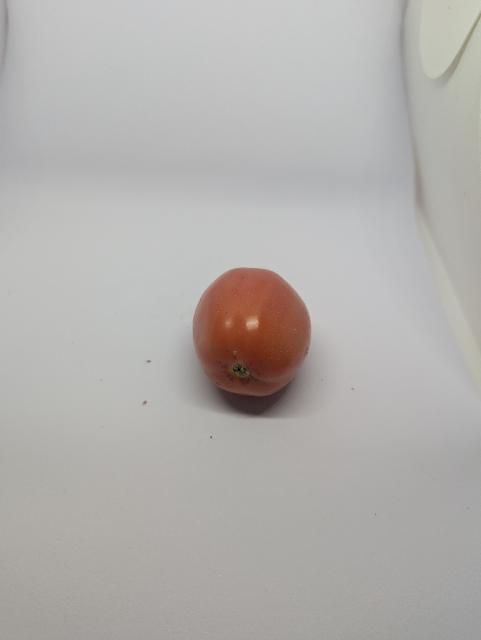red: (175, 241, 341, 416)
